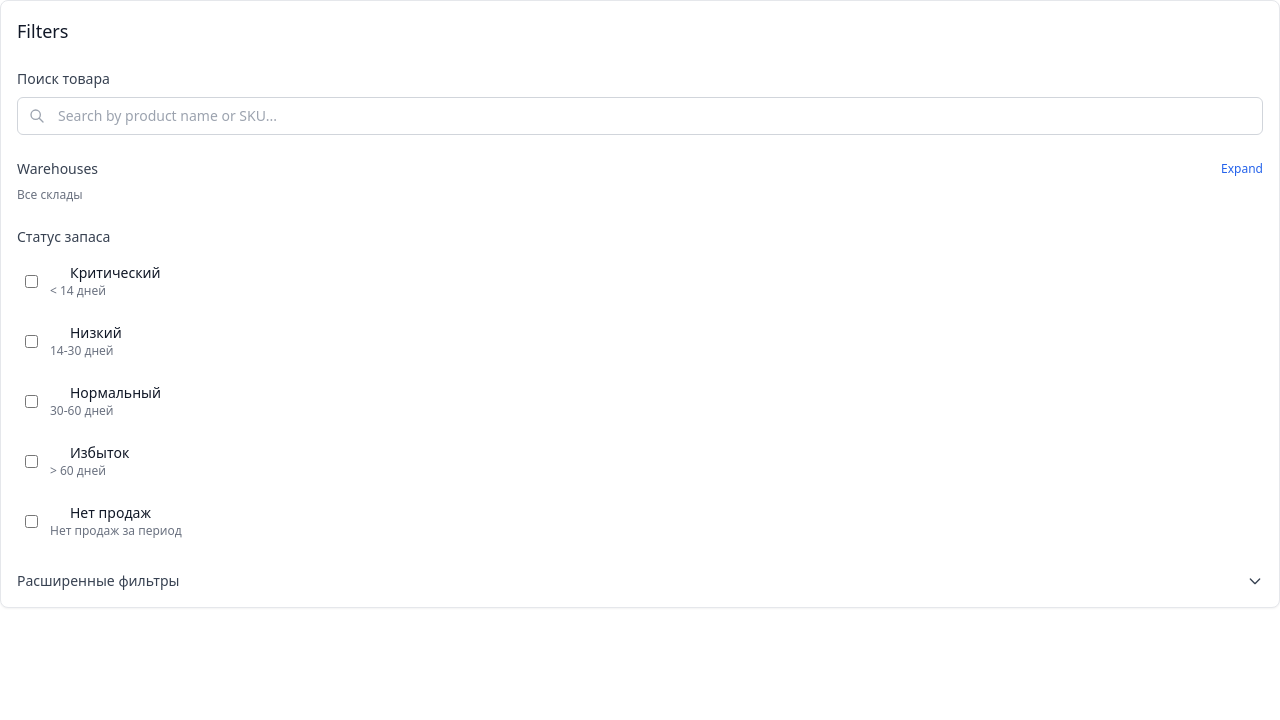
Test: FilterPanel › Product Search › shows minimum length message for short search terms
In the field with placeholder "Search by product name or SKU...": (640, 116) [17, 97, 1263, 135], type "a"
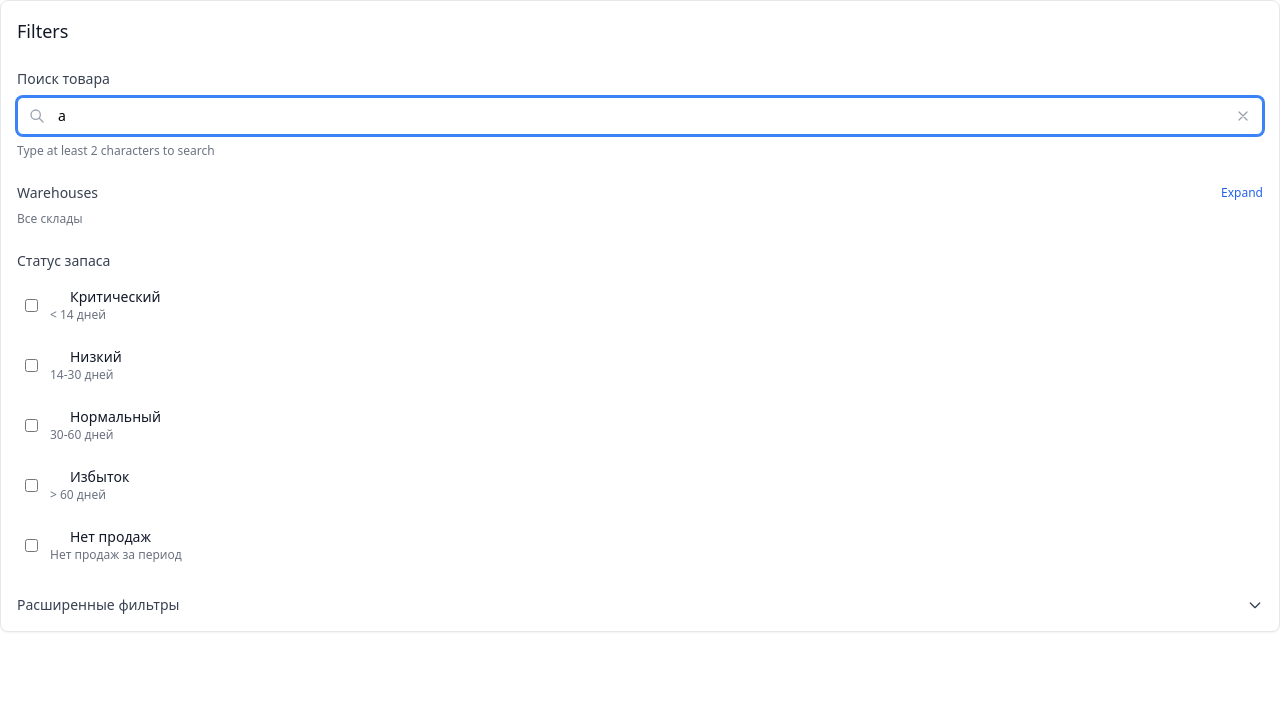
Check: the text "Type at least 2 characters to search" is shown, box [17, 142, 215, 159]
